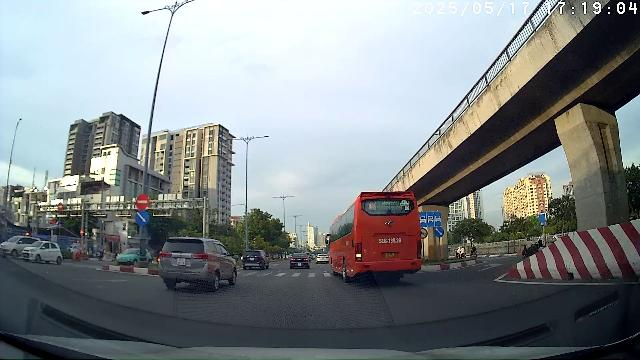102-cam-di-nguoc-chieu: (135, 194, 149, 210)
301e-cac-xe-chi-duoc-re-trai-2: (538, 211, 548, 223)
302a-huong-phai-di-vong-chuong-ngai-vat-1: (135, 210, 149, 226), (434, 226, 444, 237)
